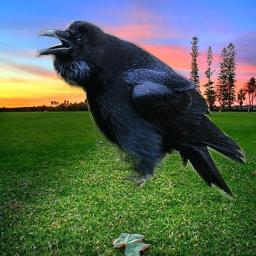Crow: (36, 19, 246, 201)
